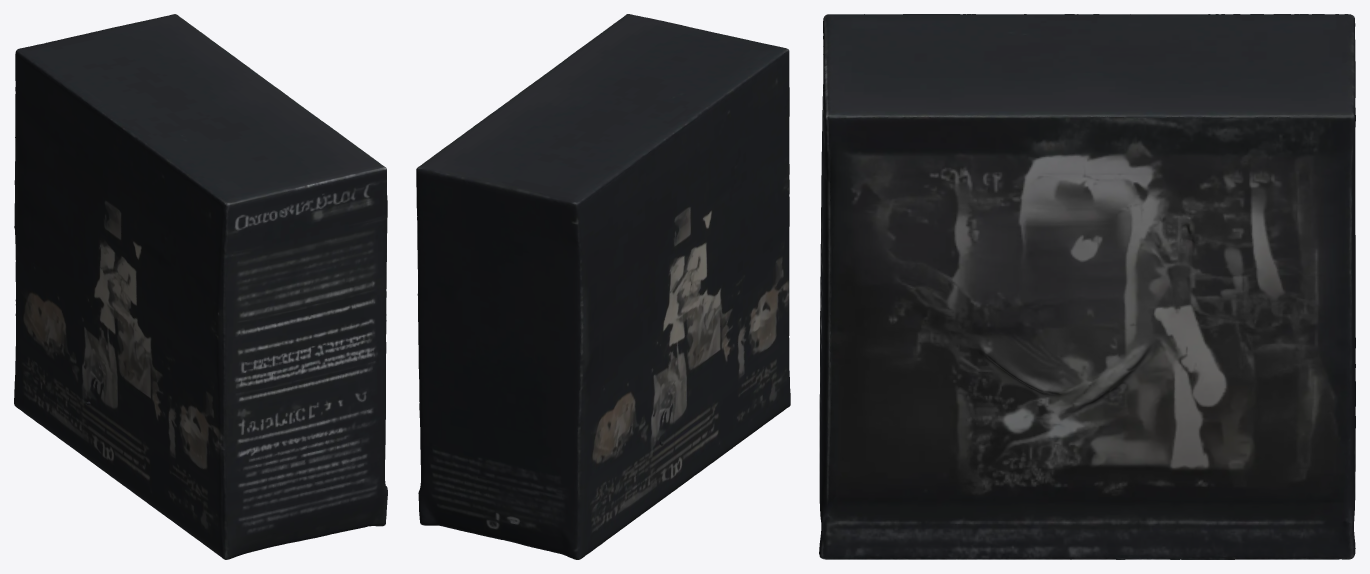
File: Perricone_MD_The_Cold_Plasma_Face_Eyes_Duo.glb
3 renders of one model, left to right at view 1: azimuth 30°, elevation 25°; view 2: azimuth 150°, elevation 25°; view 3: azimuth 270°, elevation 25°, orthographic. The views are drawn at different scales.
Parts seen in each view (by area): view 1: geometry_0; view 2: geometry_0; view 3: geometry_0.
Boxes of the visible parts, x1,y1,x2,y2 form: geometry_0: (14, 14, 387, 559); geometry_0: (416, 14, 790, 559); geometry_0: (819, 14, 1355, 559).
Size of the model in its own units: 0.4711 by 0.929 by 0.9961.
1 material, 1 textured.
